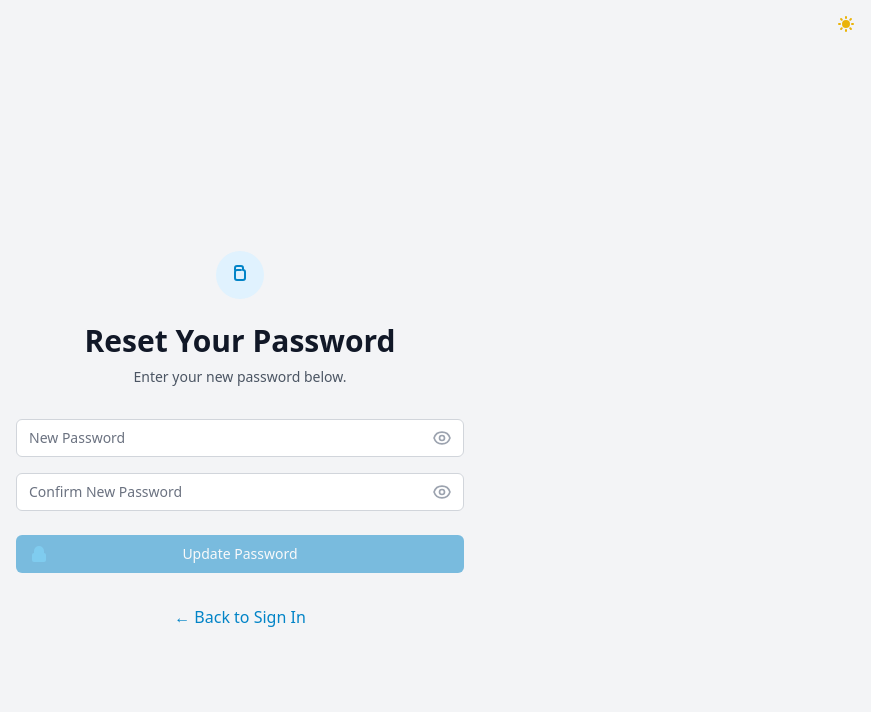
ResetPassword Component › Form Submission › should show loading state during submission
Type "StrongPass123!" into the password field with placeholder "New Password" at [240, 438], box [16, 419, 464, 457]
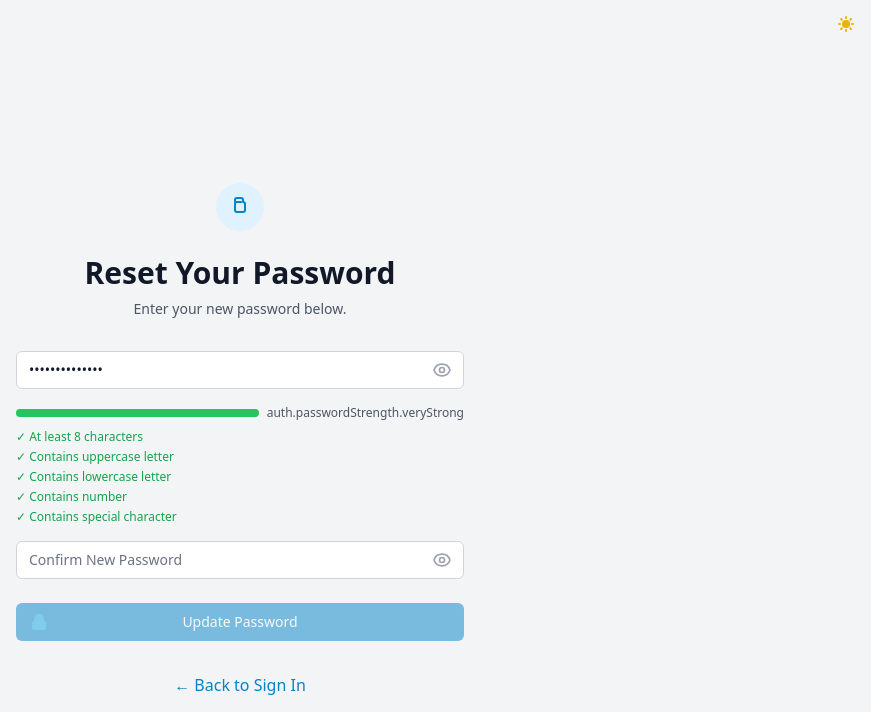
Type "StrongPass123!" into the password field with id "confirm-password" at [240, 560], box [16, 541, 464, 579]
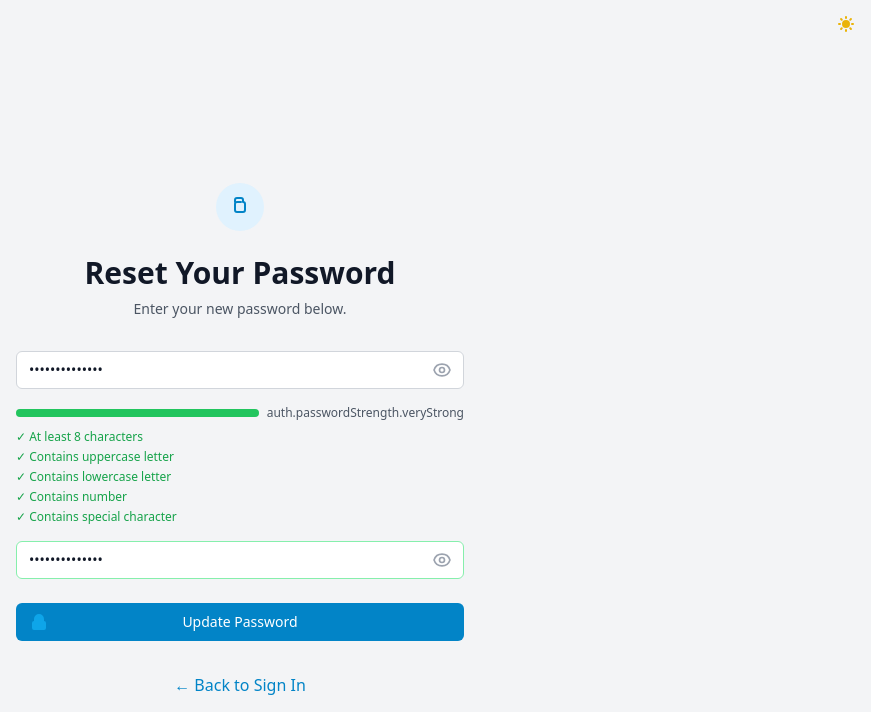
Submit the form, box [16, 351, 464, 641]
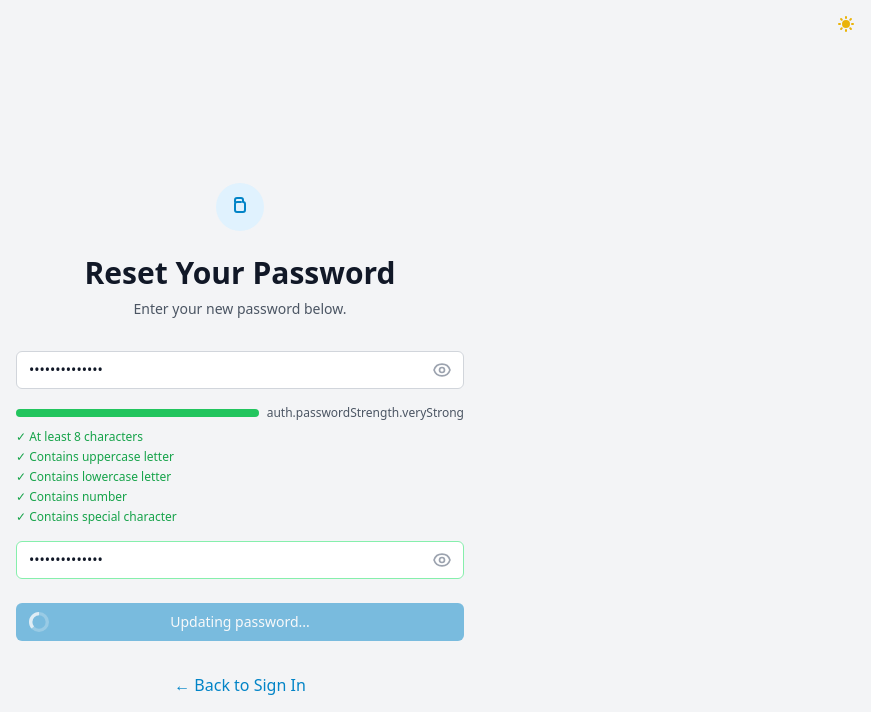
Expected: the submit button reads "Updating password...", [16, 603, 464, 641]
Expected: the submit button is disabled, [16, 603, 464, 641]
